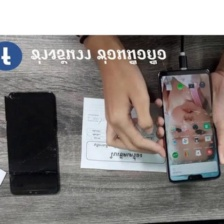phone: (153, 63, 224, 186), (2, 86, 63, 200)
